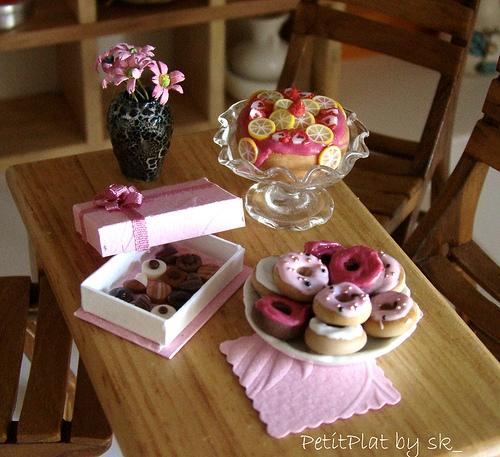lemon: (248, 117, 276, 140), (305, 123, 334, 144), (318, 146, 342, 170), (268, 108, 294, 130), (238, 137, 258, 164), (292, 110, 316, 132), (312, 96, 338, 110), (300, 98, 320, 116), (246, 90, 268, 106), (257, 91, 284, 104), (272, 98, 294, 112), (336, 101, 347, 120)
